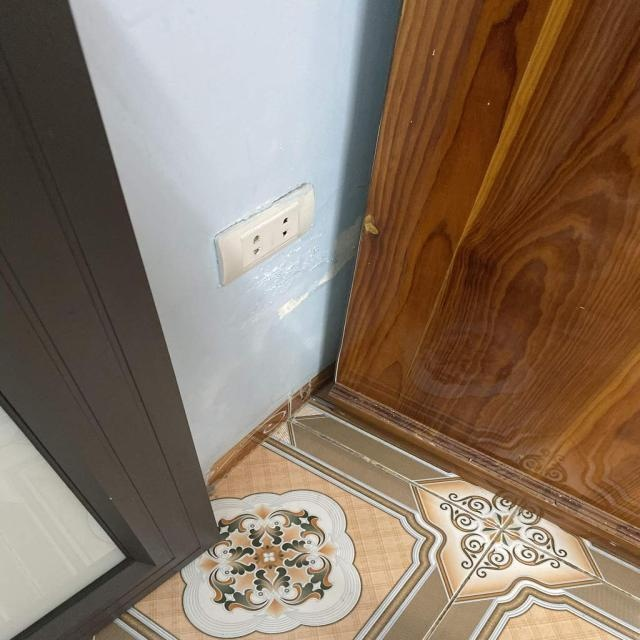outlet: (214, 182, 314, 286)
